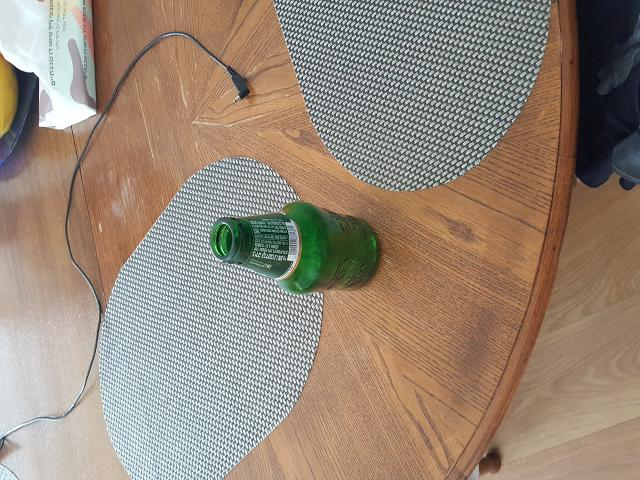beer: (208, 204, 380, 293)
